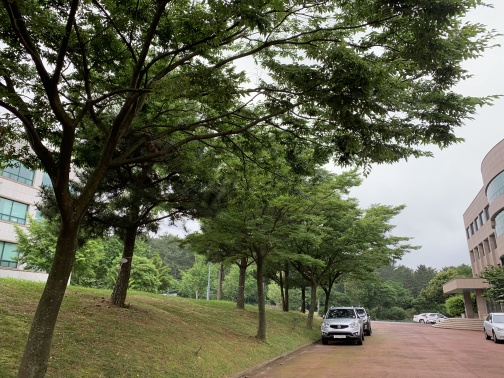Joint Experimental Labs: (444, 140, 504, 332)
Second Library: (1, 147, 38, 277)
